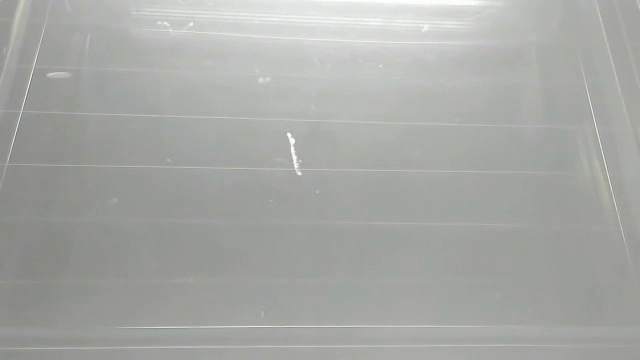alpha: (283, 129, 306, 180), (42, 67, 75, 83)
